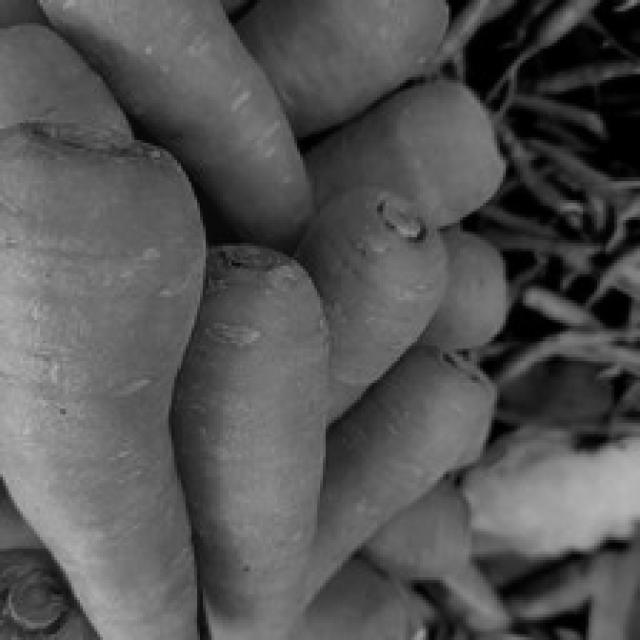Fresh_Carrot: (2, 117, 204, 640), (263, 339, 495, 626), (183, 238, 331, 640), (321, 157, 446, 396), (383, 54, 517, 256)
